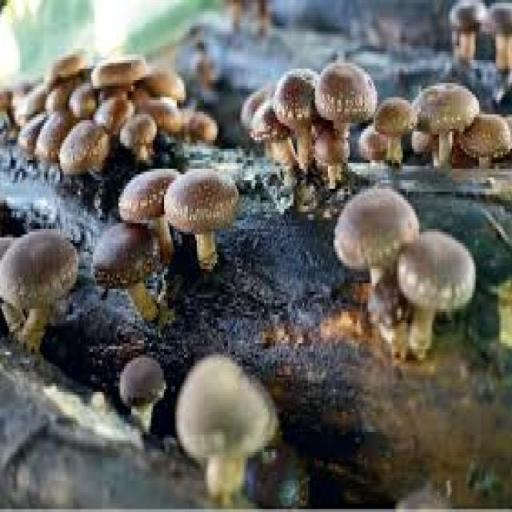Shiitake Mushroom: (176, 355, 298, 512), (0, 228, 92, 368), (395, 234, 481, 359), (88, 221, 181, 333), (332, 187, 419, 304), (112, 171, 202, 256), (168, 171, 240, 266), (109, 354, 178, 443), (413, 85, 481, 168), (311, 70, 381, 140), (273, 69, 334, 143), (242, 99, 307, 168), (365, 94, 425, 160), (88, 52, 155, 91), (65, 125, 114, 178), (464, 104, 508, 157), (450, 0, 487, 63), (117, 114, 158, 155), (489, 0, 512, 67), (145, 66, 190, 99), (45, 54, 94, 80)
